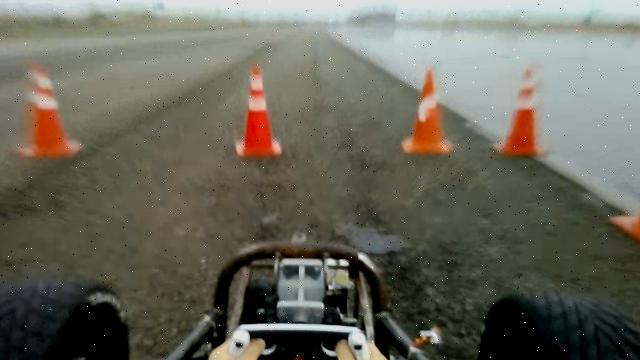red cone: (16, 61, 83, 159), (493, 66, 546, 158), (234, 60, 283, 158), (401, 66, 454, 155)
